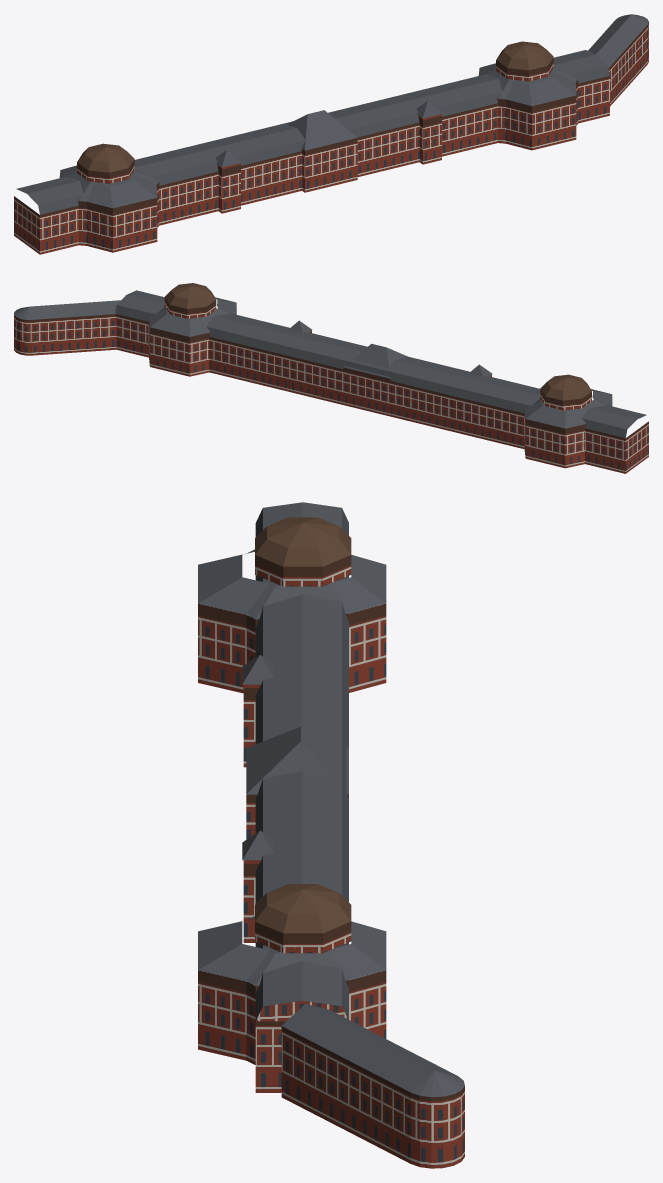
Rendered from tokyo_station_far.glb.
3 renders of one model, top to bottom at view 1: azimuth 30°, elevation 25°; view 2: azimuth 150°, elevation 25°; view 3: azimuth 270°, elevation 25°, orthographic. The views are drawn at different scales.
Visible parts, largest first — view 1: TokyoStation_Far; view 2: TokyoStation_Far; view 3: TokyoStation_Far.
Boxes of the visible parts, x1,y1,x2,y2 form: TokyoStation_Far: [14, 14, 648, 254]; TokyoStation_Far: [14, 283, 648, 473]; TokyoStation_Far: [198, 502, 464, 1168].
Bounding box in the file's own units: 310 × 35.49 × 60.96.
Materials: 3 (1 with a texture image).
